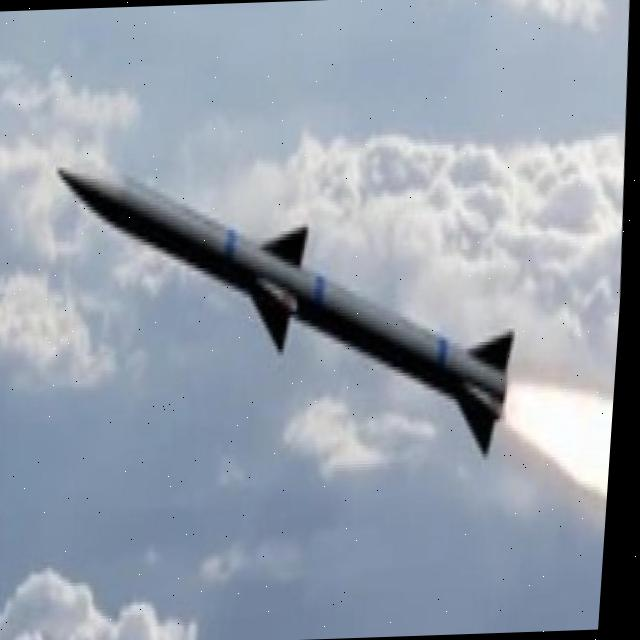missile: (29, 139, 531, 473)
